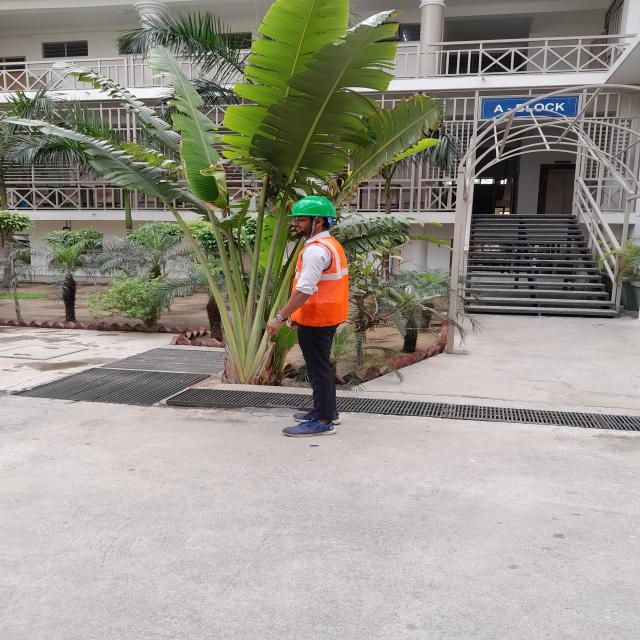safe: (274, 196, 348, 437)
